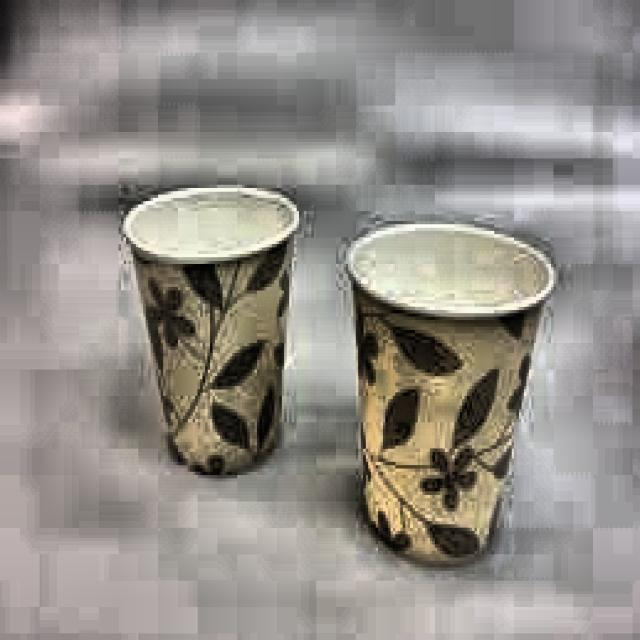Cup: (330, 214, 560, 568), (116, 171, 302, 488)
